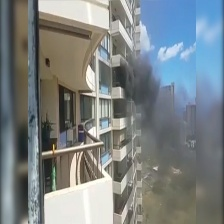smoke: (120, 50, 197, 205)
